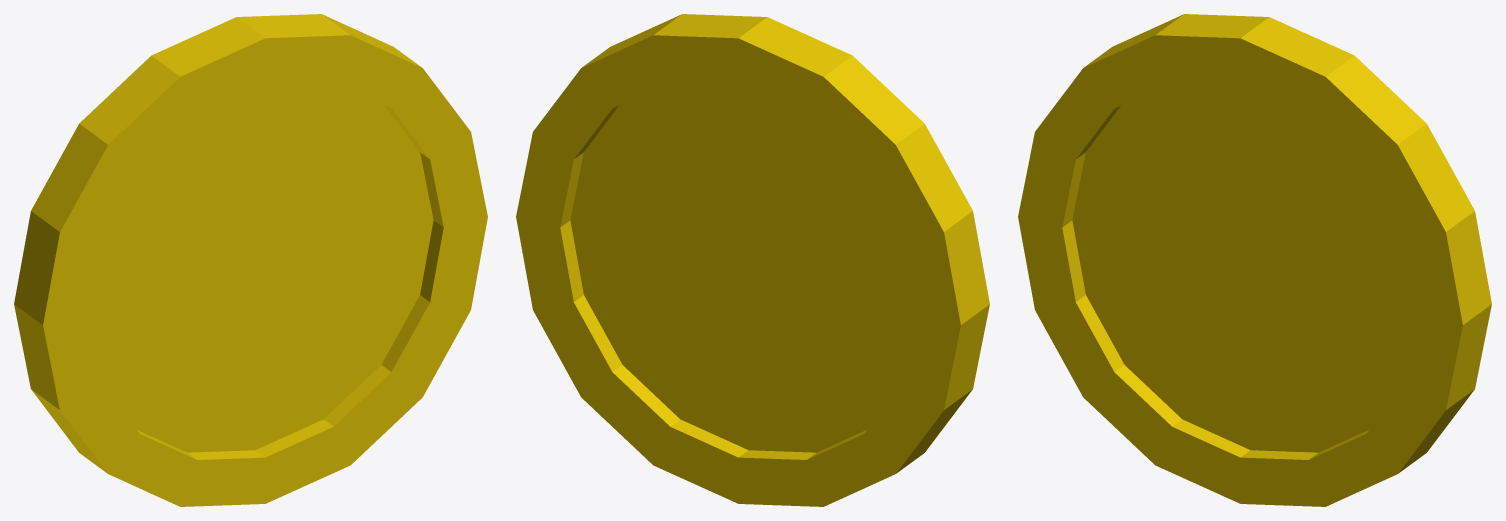
Rendered from Coin.fbx.
The picture shows the model from 3 angles, left to right: view 1: azimuth 30°, elevation 25°; view 2: azimuth 150°, elevation 25°; view 3: azimuth 330°, elevation 25°; orthographic projection.
Parts seen in each view (by area): view 1: Coin; view 2: Coin; view 3: Coin.
Part boxes in pixels (left/top/right/bottom): Coin: left=14, top=14, right=487, bottom=506; Coin: left=516, top=14, right=989, bottom=506; Coin: left=1018, top=14, right=1491, bottom=506.
Bounding box in the file's own units: 50 × 50 × 5.65.
